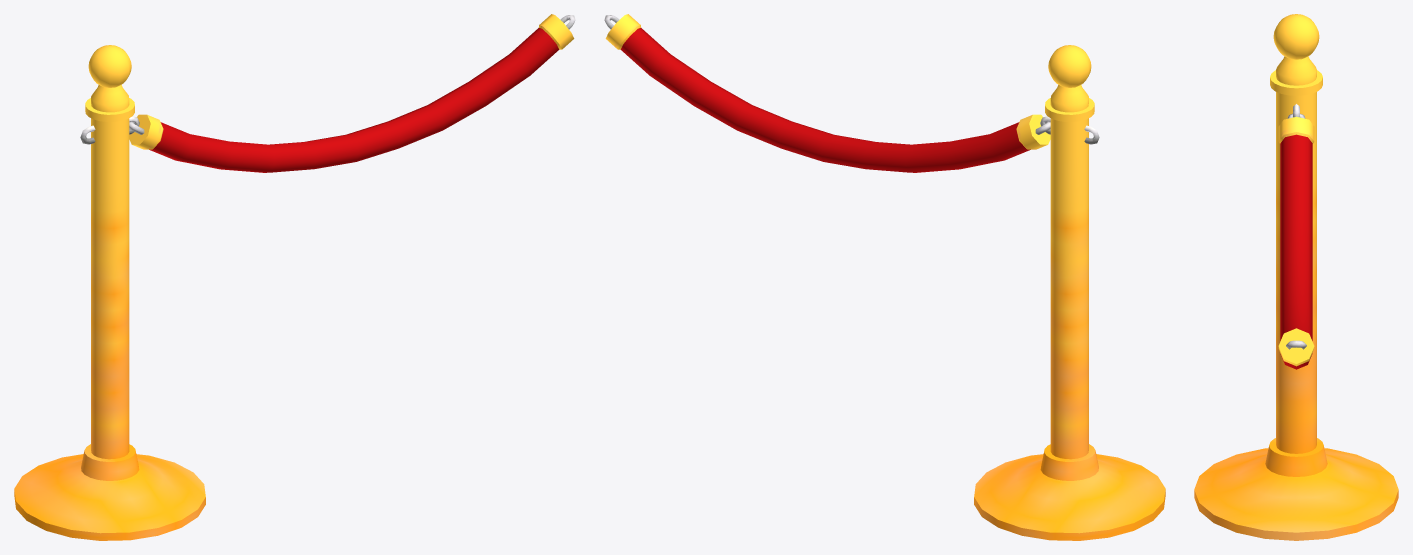
3 views of the same model, side by side, from view 1: azimuth 30°, elevation 25°; view 2: azimuth 150°, elevation 25°; view 3: azimuth 270°, elevation 25° (orthographic). The views are drawn at different scales.
Parts seen in each view (by area): view 1: VelvetRopesAndVipAreasVelvetRopesRope; view 2: VelvetRopesAndVipAreasVelvetRopesRope; view 3: VelvetRopesAndVipAreasVelvetRopesRope.
Boxes of the visible parts, x1,y1,x2,y2 form: VelvetRopesAndVipAreasVelvetRopesRope: [14, 14, 575, 540]; VelvetRopesAndVipAreasVelvetRopesRope: [604, 14, 1165, 540]; VelvetRopesAndVipAreasVelvetRopesRope: [1194, 14, 1398, 540].
Size of what is drawn, in the model's own units: 1.43 by 1.13 by 0.4361.
1 material, 1 textured.
